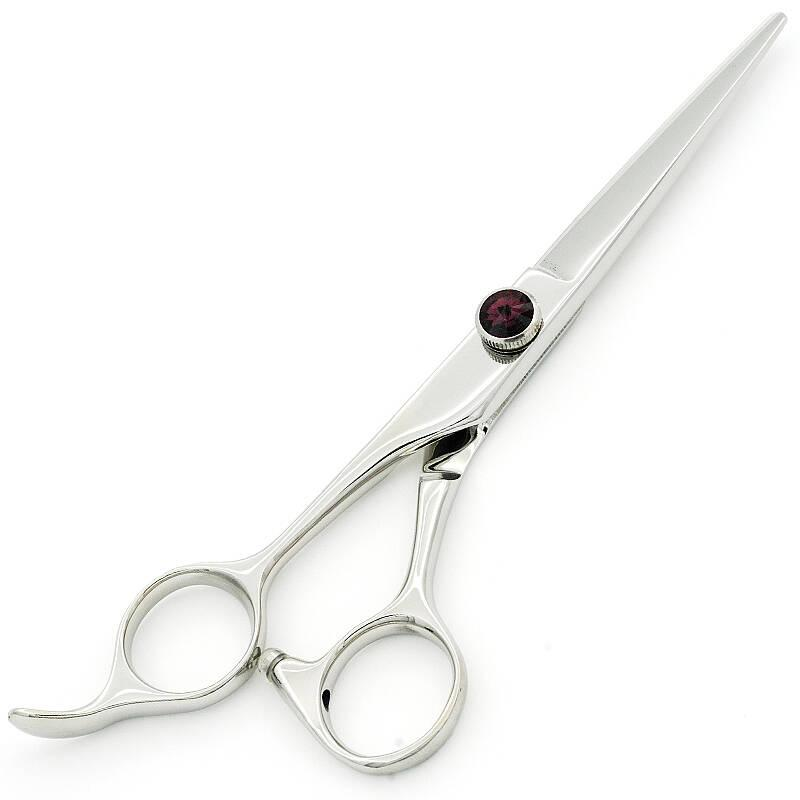scissor: (77, 58, 800, 749)
